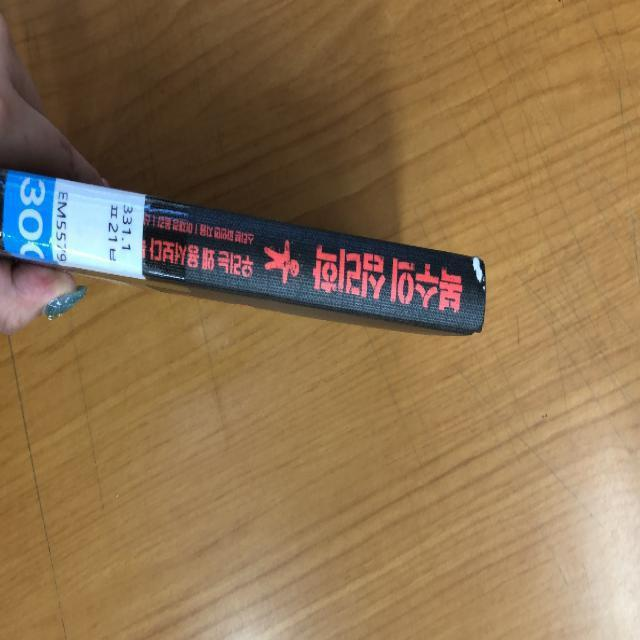Ripped: (461, 245, 497, 299)
